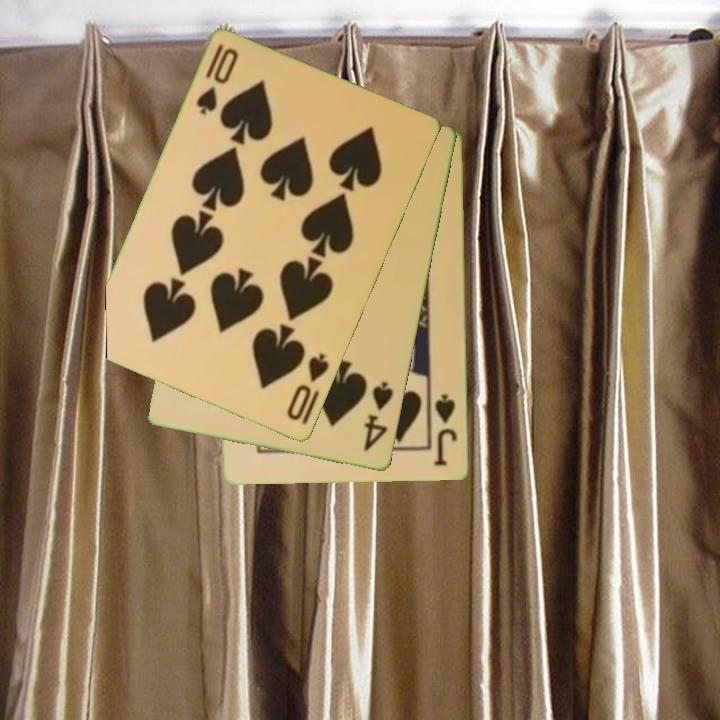10s: (193, 40, 242, 119), (283, 350, 333, 424)
4s: (360, 378, 397, 454)
Js: (431, 391, 460, 469)
